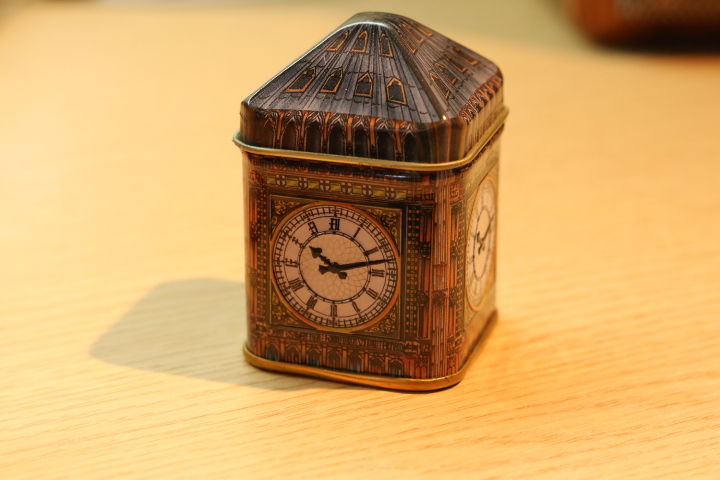Big Ben: (201, 5, 544, 419)
